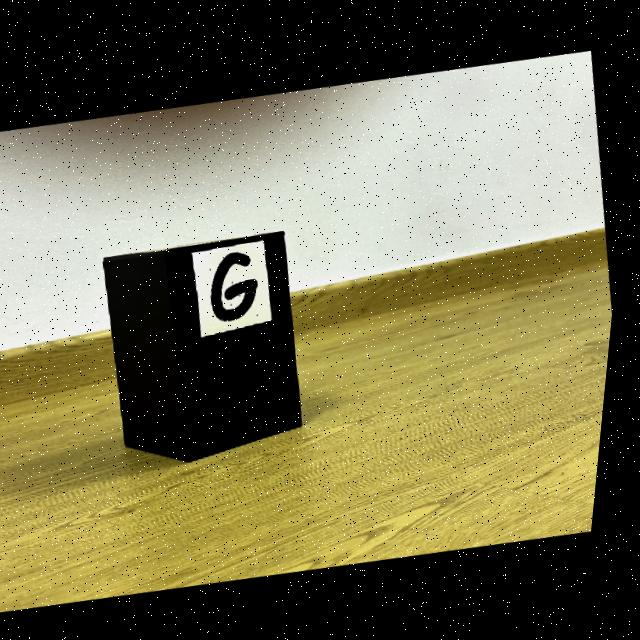G: (216, 250, 263, 319)
